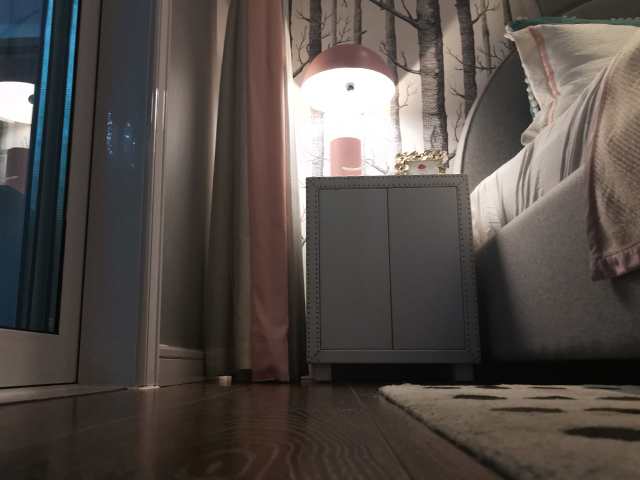bed: (453, 1, 640, 384)
cabinet: (303, 172, 483, 386)
carpet: (374, 382, 640, 480)
curtain: (197, 1, 311, 386)
